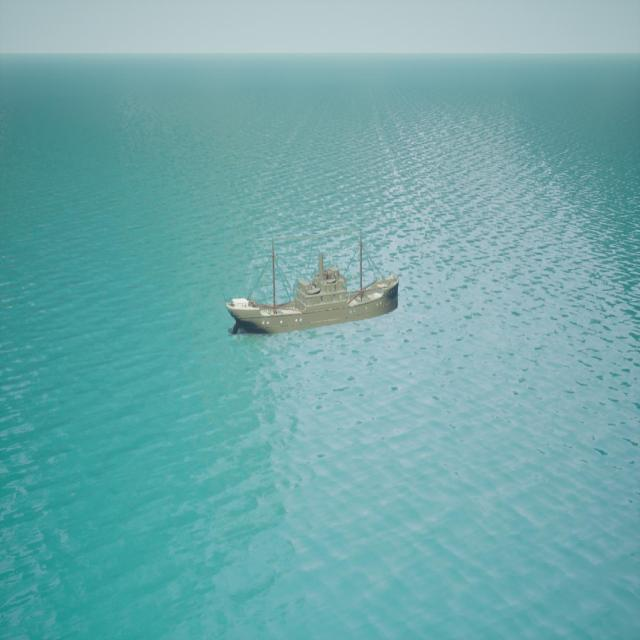fishing ship: (229, 240, 399, 340)
